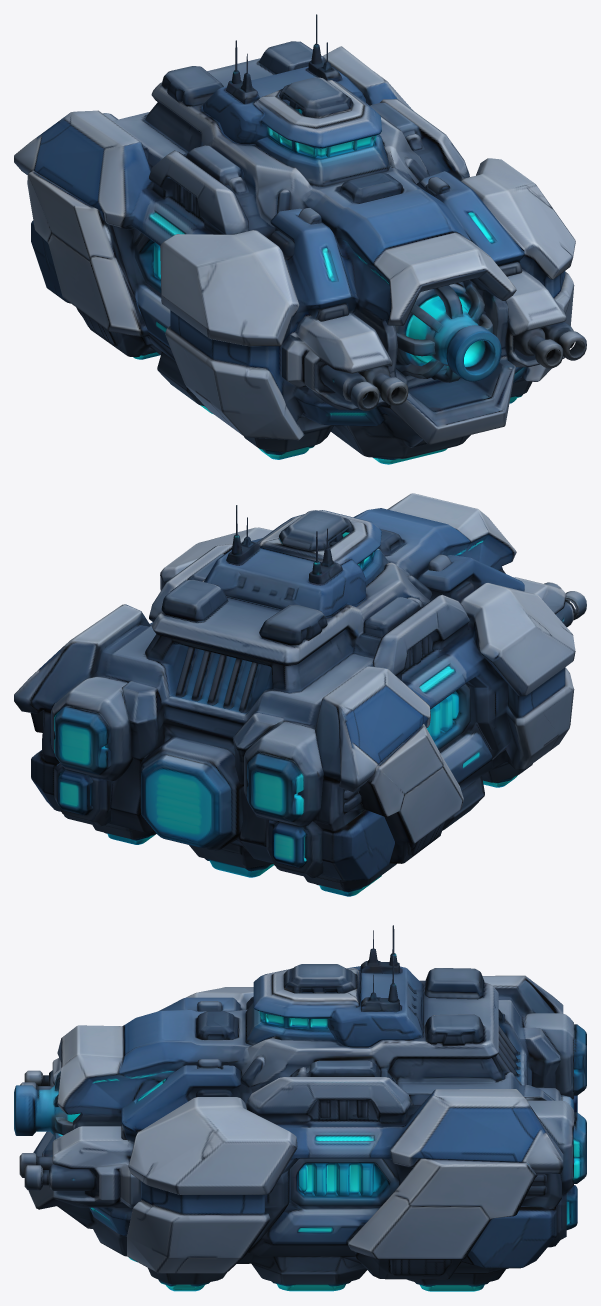
Rendered from Modle_Enemy_Tank.fbx.
3 renders of one model, top to bottom at view 1: azimuth 30°, elevation 25°; view 2: azimuth 150°, elevation 25°; view 3: azimuth 270°, elevation 25°, orthographic. The views are drawn at different scales.
Parts seen in each view (by area): view 1: body.004; view 2: body.004; view 3: body.004.
Boxes of the visible parts, box(x1,y1,x2,y2) form: body.004: box(14, 14, 586, 464); body.004: box(14, 493, 586, 896); body.004: box(14, 925, 586, 1291).
Bounding box in the file's own units: 1.68 × 1.46 × 2.43.
